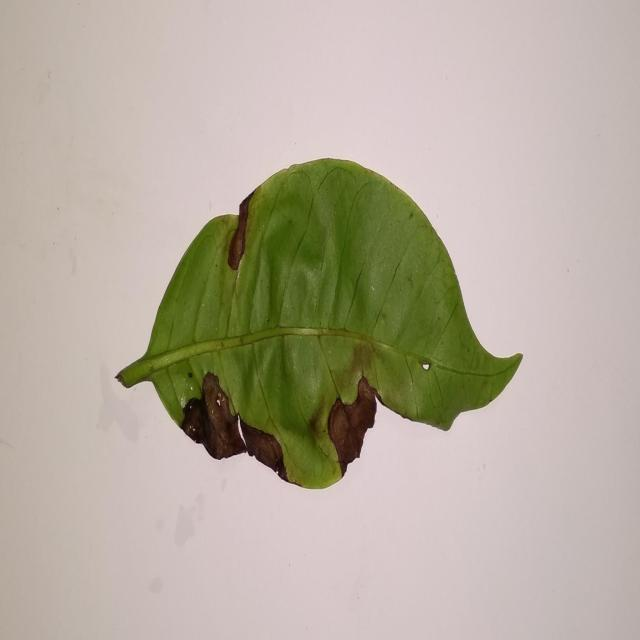phoma: (181, 372, 290, 481), (328, 376, 381, 475), (228, 191, 255, 269)
